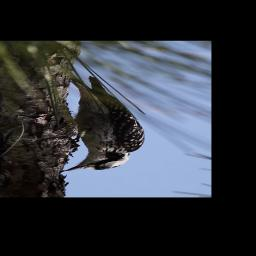Woodpecker: (55, 71, 153, 177)
